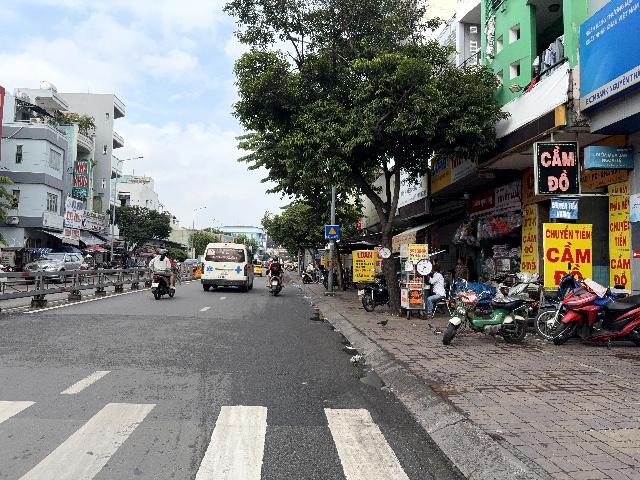khu-vuc-cho-phia-truoc: (325, 225, 340, 239)
